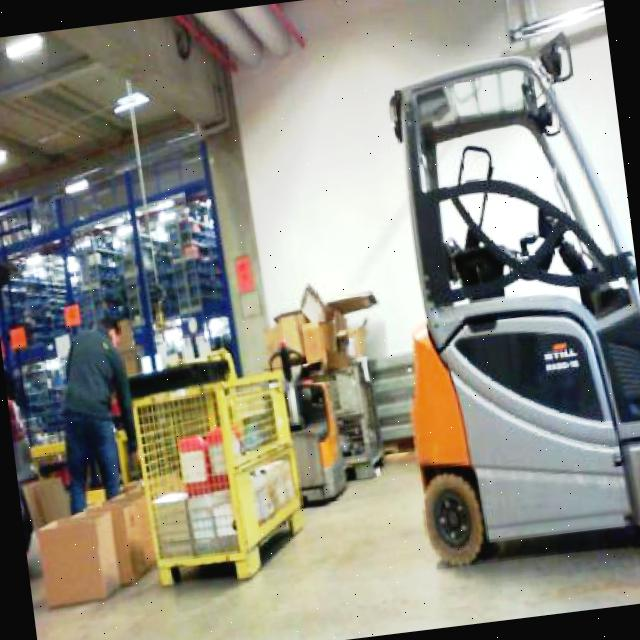ground: (19, 414, 640, 640)
pallet: (0, 272, 434, 606), (127, 366, 310, 590), (361, 319, 640, 456), (257, 273, 399, 487), (27, 478, 161, 608), (257, 273, 385, 381), (362, 349, 424, 456)
